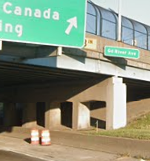overheadsign: (58, 37, 97, 48)
